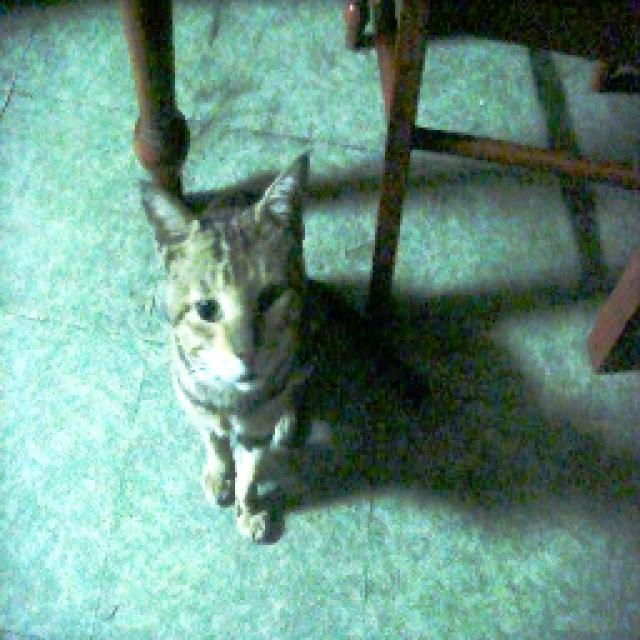cat: (90, 137, 450, 536)
